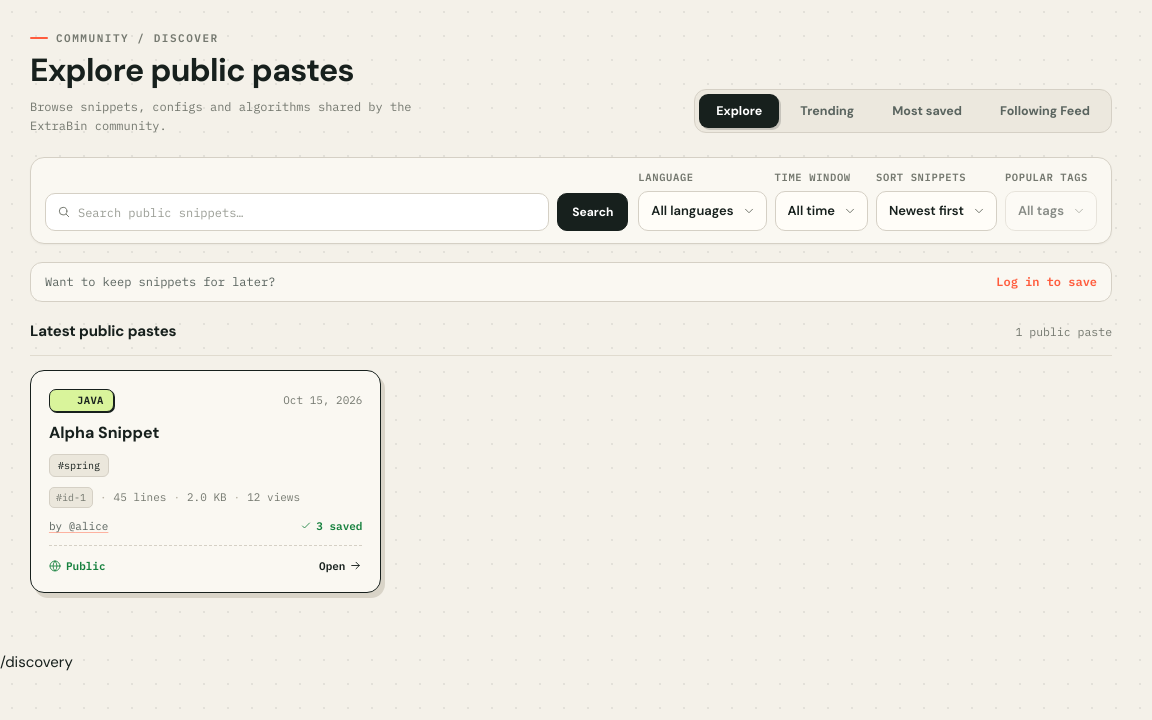
Public author profiles & developer discovery › authorButton_opensPopoverForThatAuthor
What coordinates should you click on to do the following:
click the button "by @alice"
I would click on:
 (79, 526)
Its box is [49,518,108,534].
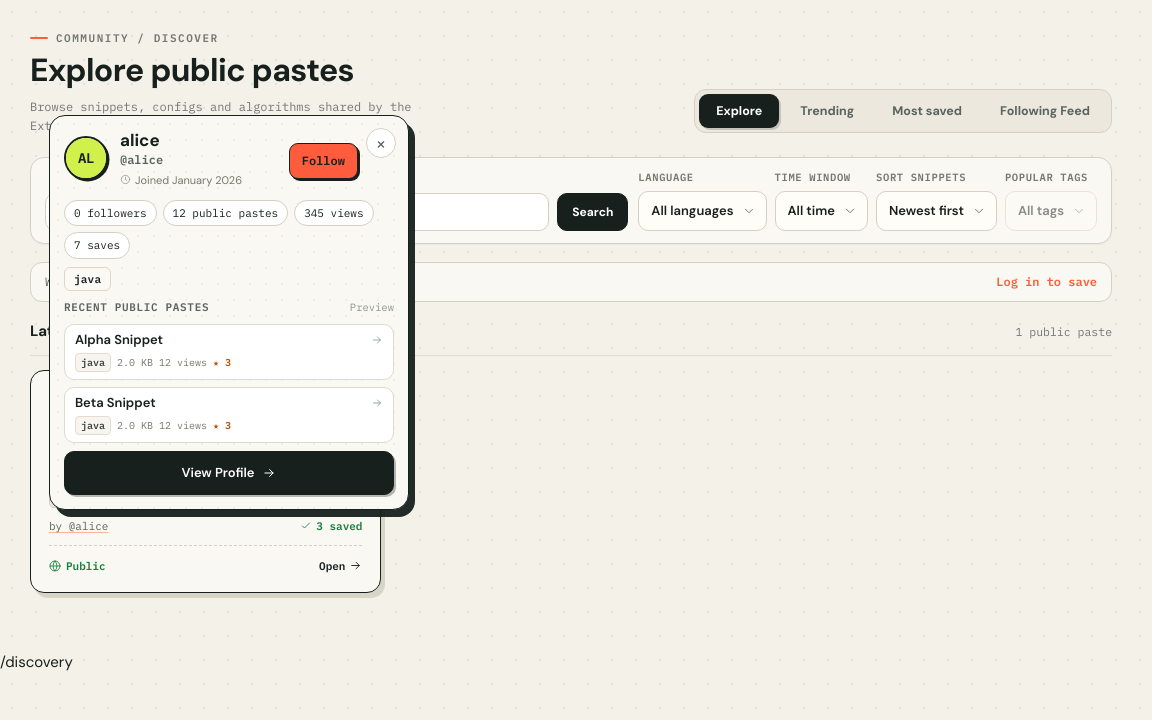
Expected: the dialog named "profile preview for alice" is shown, [49,115,409,510]
Expected: the text "alice" is shown, [120,130,160,151]
